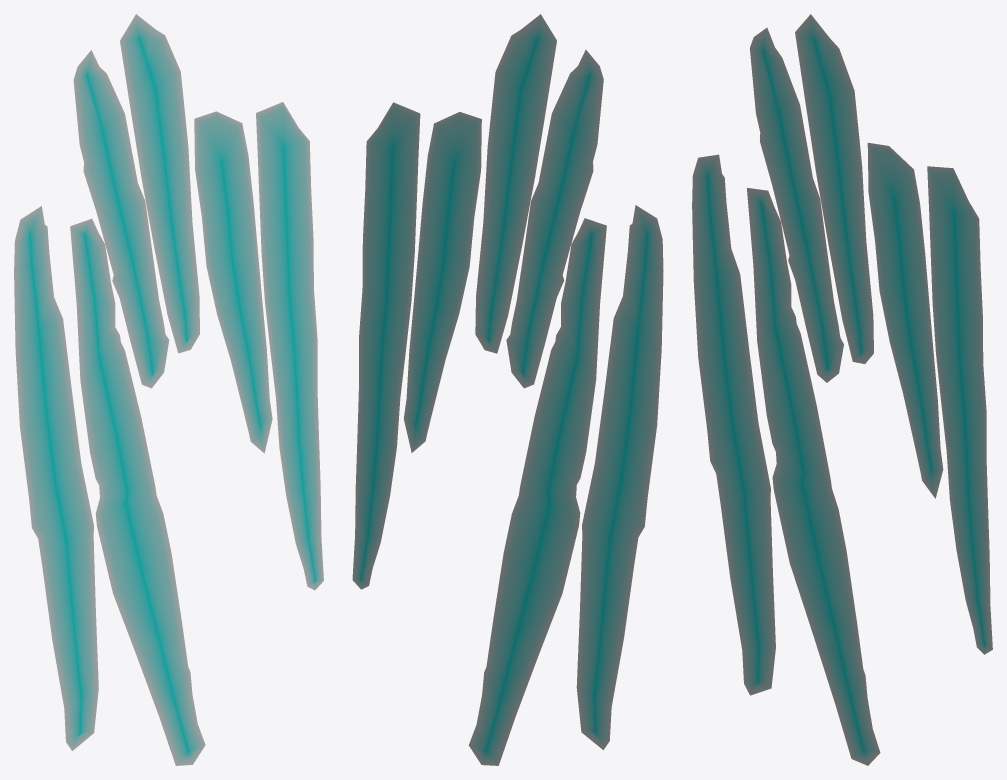
File: SM_EFF_Text_LightningStrike_01.glb
3 renders of one model, left to right at view 1: azimuth 30°, elevation 25°; view 2: azimuth 150°, elevation 25°; view 3: azimuth 330°, elevation 25°, orthographic. The views are drawn at different scales.
Parts seen in each view (by area): view 1: SM_EFF_Text_LightningStrike_01; view 2: SM_EFF_Text_LightningStrike_01; view 3: SM_EFF_Text_LightningStrike_01.
Boxes of the visible parts, x1,y1,x2,y2 form: SM_EFF_Text_LightningStrike_01: (14, 14, 323, 765); SM_EFF_Text_LightningStrike_01: (352, 14, 663, 765); SM_EFF_Text_LightningStrike_01: (692, 14, 992, 765).
Bounding box in the file's own units: 0.5492 × 1.29 × 0.00569.
